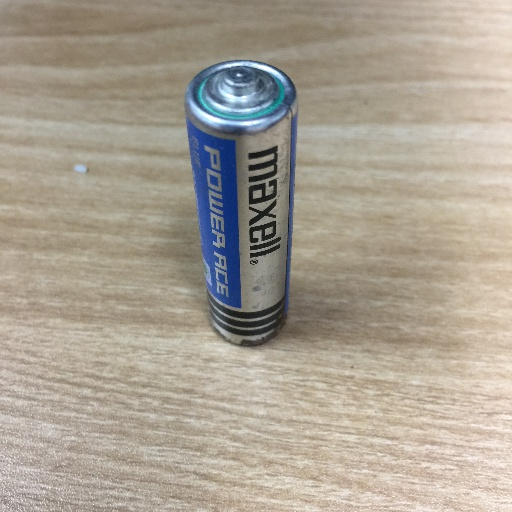Battery_0: (174, 53, 317, 360)
